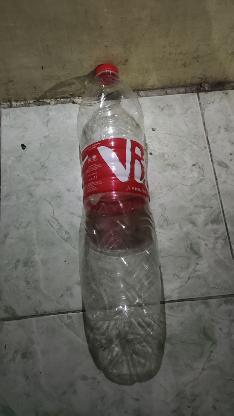Plastic Bottle: (76, 63, 162, 324)
